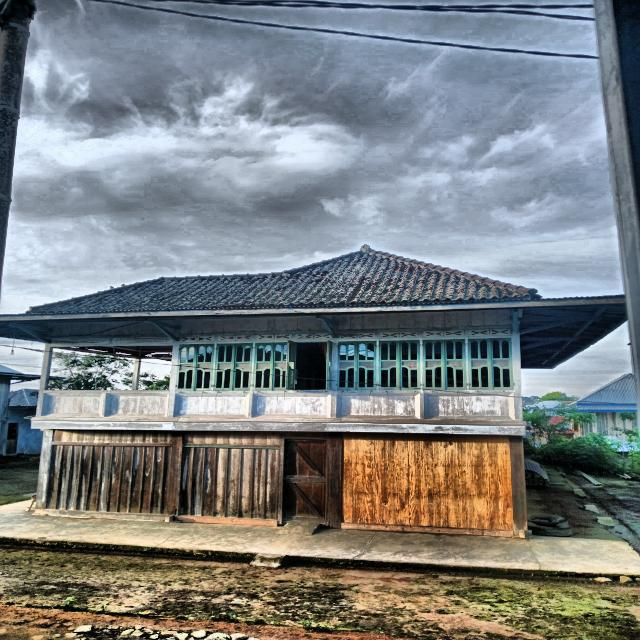column: (508, 436, 528, 538), (165, 430, 184, 521), (325, 432, 342, 528), (36, 429, 53, 509)
door: (282, 439, 327, 523)
ornamen: (423, 392, 515, 420), (336, 392, 420, 419), (251, 393, 331, 418), (173, 393, 249, 418), (40, 393, 103, 418), (104, 393, 169, 417)
roof: (27, 245, 540, 315), (574, 374, 637, 412)
wall: (336, 310, 515, 425), (340, 431, 514, 538), (172, 317, 331, 422), (46, 429, 172, 514), (178, 430, 280, 520)
window: (467, 338, 513, 390), (422, 339, 467, 390), (286, 340, 331, 390), (378, 339, 420, 390), (336, 341, 376, 391), (214, 342, 253, 391), (177, 343, 215, 391), (253, 342, 290, 390)
